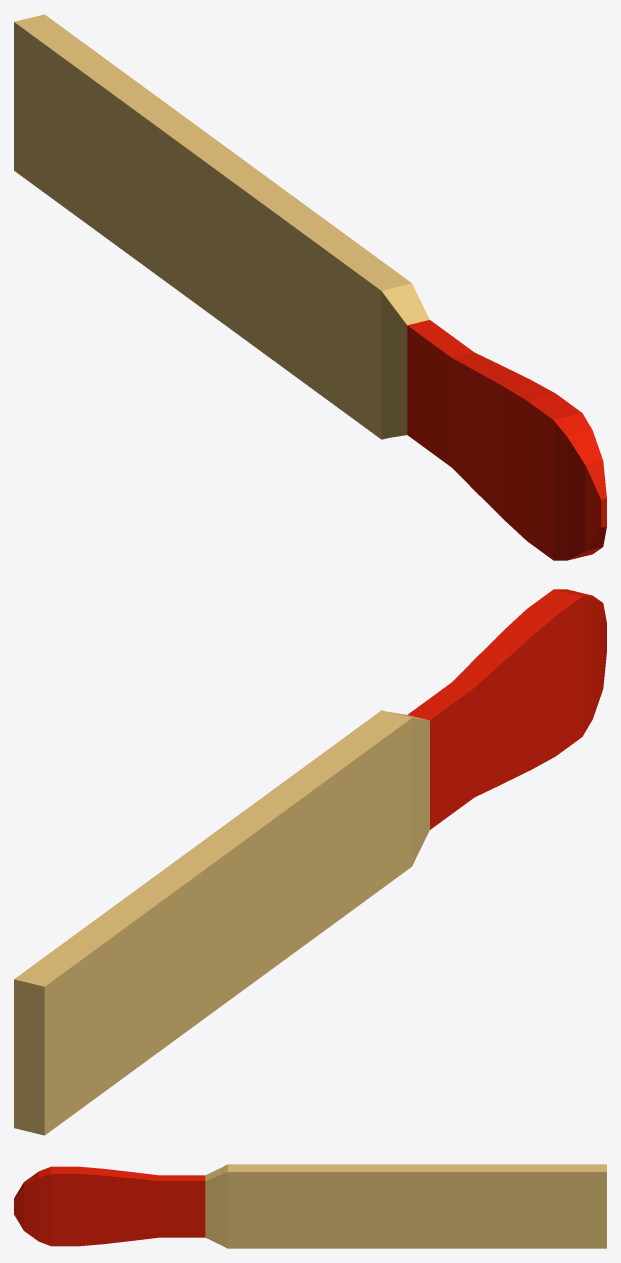
Rendered from Breakerbox_Handle.glb.
The picture shows the model from 3 angles, top to bottom: view 1: azimuth 30°, elevation 25°; view 2: azimuth 150°, elevation 25°; view 3: azimuth 270°, elevation 25°; orthographic projection. The views are drawn at different scales.
Visible parts, largest first — view 1: BreakerBoxHandle; view 2: BreakerBoxHandle; view 3: BreakerBoxHandle.
Part boxes in pixels (left/top/right/bottom): BreakerBoxHandle: left=14, top=14, right=606, bottom=560; BreakerBoxHandle: left=14, top=589, right=606, bottom=1135; BreakerBoxHandle: left=14, top=1164, right=606, bottom=1248.
Size of the model in its own units: 0.0121 by 0.0559 by 0.3917.
